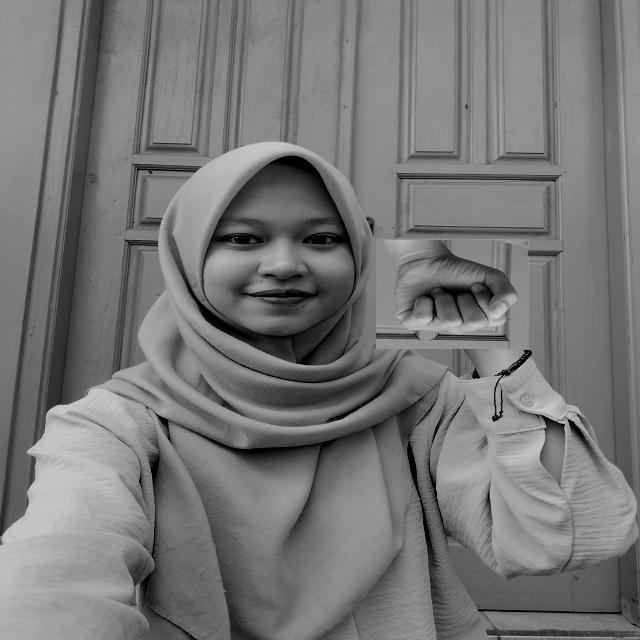baik: (376, 239, 529, 349)
